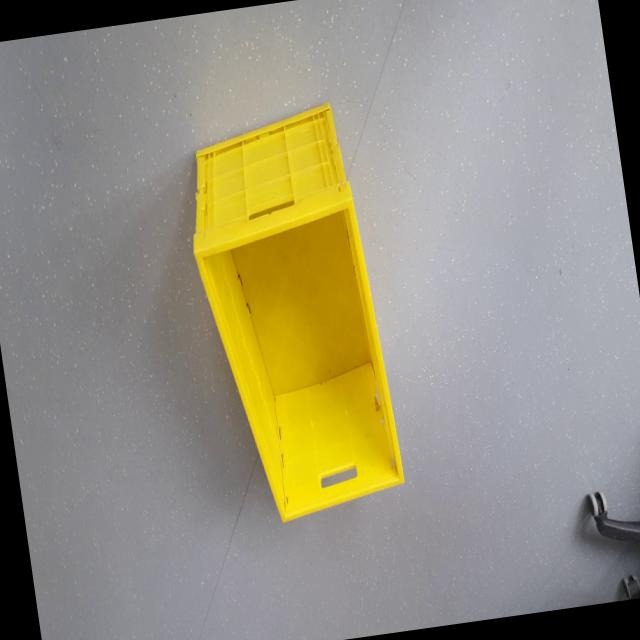box: (170, 80, 412, 551)
